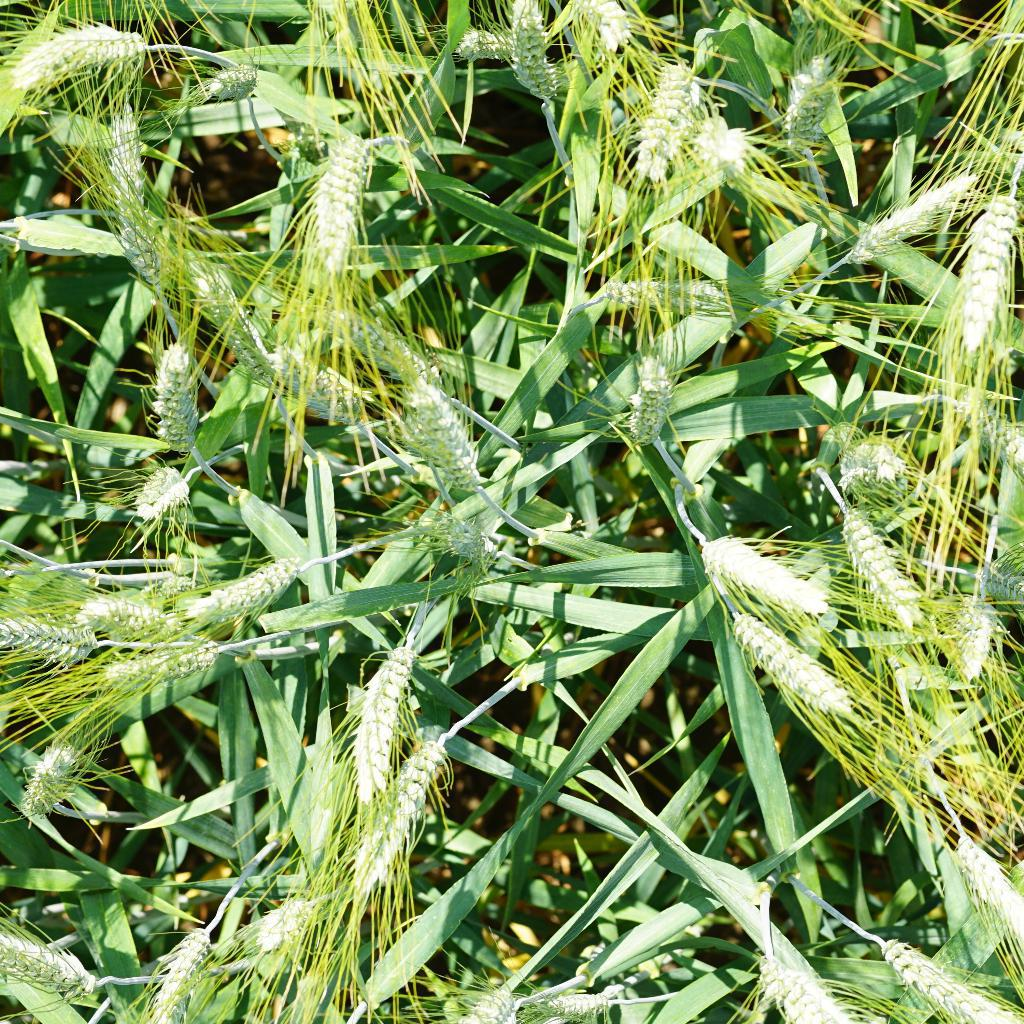0-0: (336, 718, 455, 892), (707, 609, 863, 728), (96, 109, 194, 283), (302, 122, 392, 290), (945, 174, 1024, 365), (687, 526, 830, 627), (834, 175, 987, 266), (317, 296, 452, 388), (826, 505, 927, 627), (621, 58, 710, 186), (354, 627, 419, 800), (946, 819, 1024, 963), (258, 344, 377, 429), (191, 262, 279, 372), (591, 253, 733, 321), (406, 384, 490, 497), (141, 333, 216, 459), (755, 946, 874, 1024), (493, 0, 574, 112), (139, 907, 215, 1024), (930, 571, 1009, 683), (2, 26, 154, 82), (0, 930, 119, 1000), (774, 45, 844, 164), (182, 557, 321, 612), (92, 639, 231, 694), (407, 509, 514, 574), (0, 606, 101, 671), (426, 23, 544, 75), (615, 355, 679, 448), (64, 585, 182, 632), (14, 739, 86, 815), (964, 396, 1024, 477), (845, 421, 912, 490), (688, 119, 763, 180), (129, 463, 200, 527), (249, 893, 322, 955), (433, 974, 522, 1024), (518, 982, 617, 1024), (561, 0, 642, 51), (202, 59, 273, 108), (964, 559, 1024, 615)
